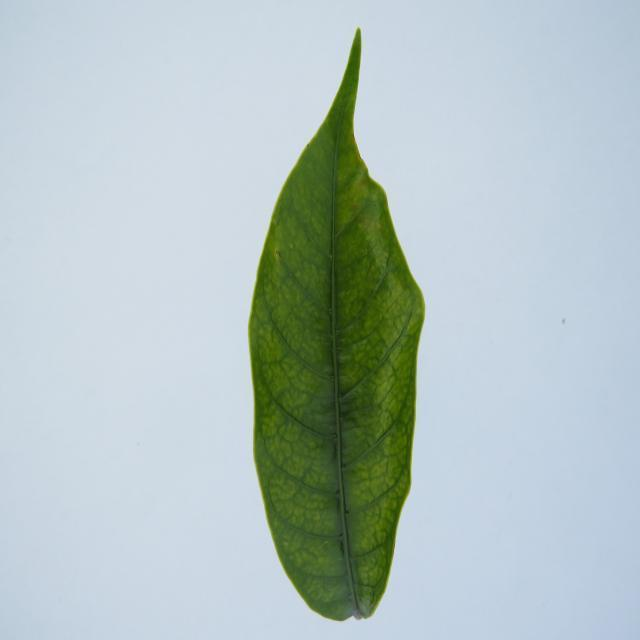DeficienciaNutricional-Hierro: (249, 30, 425, 620)
